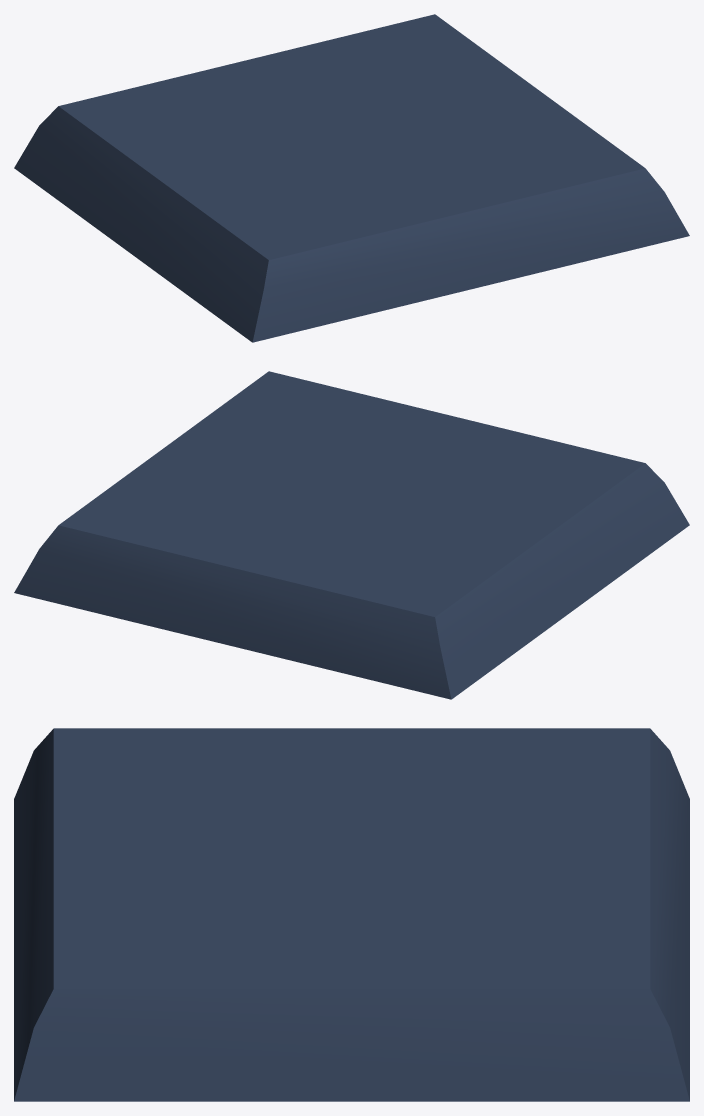
File: Pedestal.glb
The picture shows the model from 3 angles, top to bottom: view 1: azimuth 30°, elevation 25°; view 2: azimuth 150°, elevation 25°; view 3: azimuth 270°, elevation 25°; orthographic projection. The views are drawn at different scales.
Parts seen in each view (by area): view 1: stone_foundation; view 2: stone_foundation; view 3: stone_foundation.
Boxes of the visible parts, bbox=[...] form: stone_foundation: bbox=[14, 14, 689, 342]; stone_foundation: bbox=[14, 371, 689, 699]; stone_foundation: bbox=[14, 728, 689, 1101].
Size of the model in its own units: 3.6 by 0.51 by 3.4.
